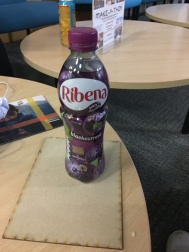bottle_purple: (50, 25, 120, 185)
